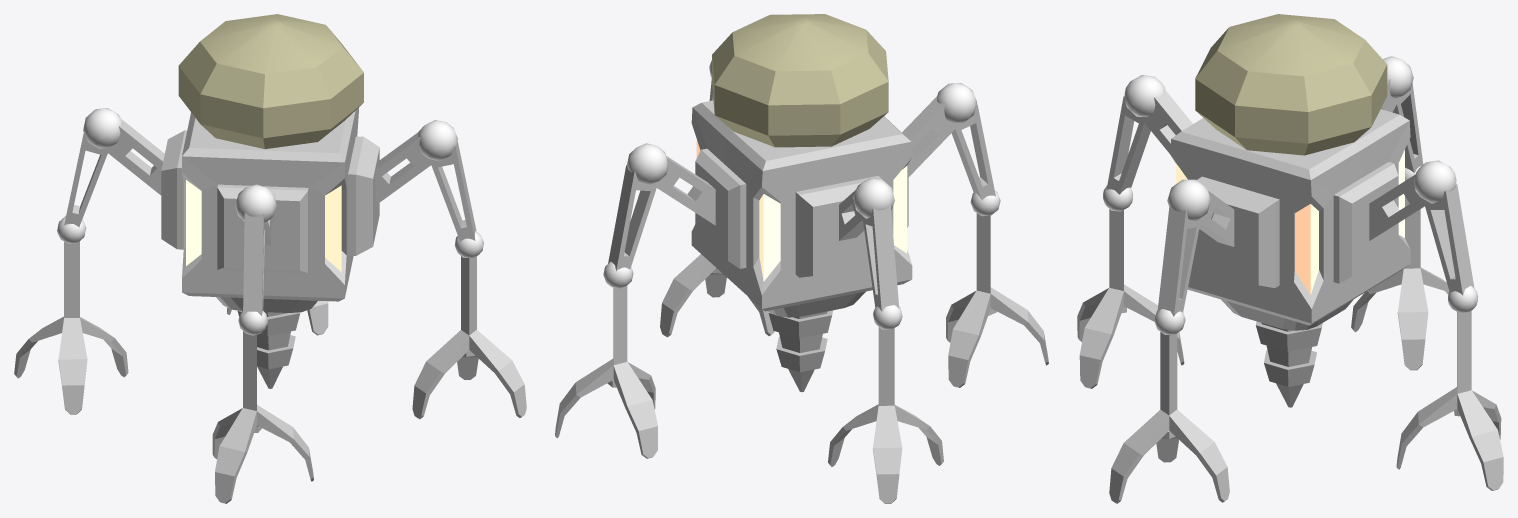
Rendered from Miningdrone.fbx.
3 views of the same model, side by side, from view 1: azimuth 30°, elevation 25°; view 2: azimuth 150°, elevation 25°; view 3: azimuth 270°, elevation 25° (orthographic). The views are drawn at different scales.
Parts seen in each view (by area): view 1: Torso, Cargo, Leg 4 Griff, Leg 2 Griff, Leg 3 Griff, Leg2, Leg4, Leg 3 Low, Leg 4 Low, Drill, Leg2 low, Leg3 (+1 smaller); view 2: Torso, Cargo, Leg 2 Griff, Leg 3 Griff, Leg 1 Griff, Leg2 low, Leg1 low, Leg3, Leg1, Drill, Leg 4 Griff, Leg 3 Low (+1 smaller); view 3: Torso, Cargo, Leg 4 Griff, Leg 1 Griff, Leg 3 Griff, Leg 2 Griff, Leg1 low, Leg 4 Low, Drill, Leg1, Leg 3 Low, Leg3 (+3 smaller).
Boxes of the visible parts, x1=… form: Torso: x1=161, y1=107, x2=379, y2=312; Cargo: x1=178, y1=14, x2=363, y2=149; Leg 4 Griff: x1=412, y1=256, x2=526, y2=419; Leg 2 Griff: x1=14, y1=241, x2=128, y2=414; Leg 3 Griff: x1=212, y1=331, x2=313, y2=503; Leg2: x1=83, y1=108, x2=164, y2=195; Leg4: x1=375, y1=120, x2=457, y2=204; Leg 3 Low: x1=238, y1=213, x2=267, y2=335; Leg 4 Low: x1=431, y1=141, x2=483, y2=258; Drill: x1=237, y1=310, x2=300, y2=388; Leg2 low: x1=57, y1=132, x2=107, y2=243; Leg3: x1=235, y1=184, x2=276, y2=245; Torso: x1=691, y1=100, x2=912, y2=317; Cargo: x1=712, y1=14, x2=888, y2=147; Leg 2 Griff: x1=828, y1=327, x2=943, y2=503; Leg 3 Griff: x1=946, y1=213, x2=1048, y2=387; Leg 1 Griff: x1=555, y1=286, x2=657, y2=458; Leg2 low: x1=862, y1=205, x2=902, y2=329; Leg1 low: x1=603, y1=165, x2=656, y2=288; Leg3: x1=902, y1=83, x2=976, y2=176; Leg1: x1=627, y1=143, x2=715, y2=225; Drill: x1=768, y1=310, x2=832, y2=392; Leg 4 Griff: x1=660, y1=254, x2=774, y2=337; Leg 3 Low: x1=951, y1=104, x2=1000, y2=216; Torso: x1=1170, y1=109, x2=1410, y2=330; Cargo: x1=1195, y1=14, x2=1387, y2=155; Leg 4 Griff: x1=1109, y1=332, x2=1229, y2=503; Leg 1 Griff: x1=1396, y1=311, x2=1503, y2=490; Leg 3 Griff: x1=1077, y1=209, x2=1184, y2=388; Leg 2 Griff: x1=1351, y1=196, x2=1449, y2=370; Leg1 low: x1=1423, y1=184, x2=1477, y2=313; Leg 4 Low: x1=1154, y1=205, x2=1201, y2=334; Drill: x1=1255, y1=321, x2=1322, y2=407; Leg1: x1=1369, y1=160, x2=1456, y2=240; Leg 3 Low: x1=1103, y1=95, x2=1150, y2=211; Leg3: x1=1124, y1=75, x2=1192, y2=153.
Size of the model in its own units: 247 by 252 by 247.
